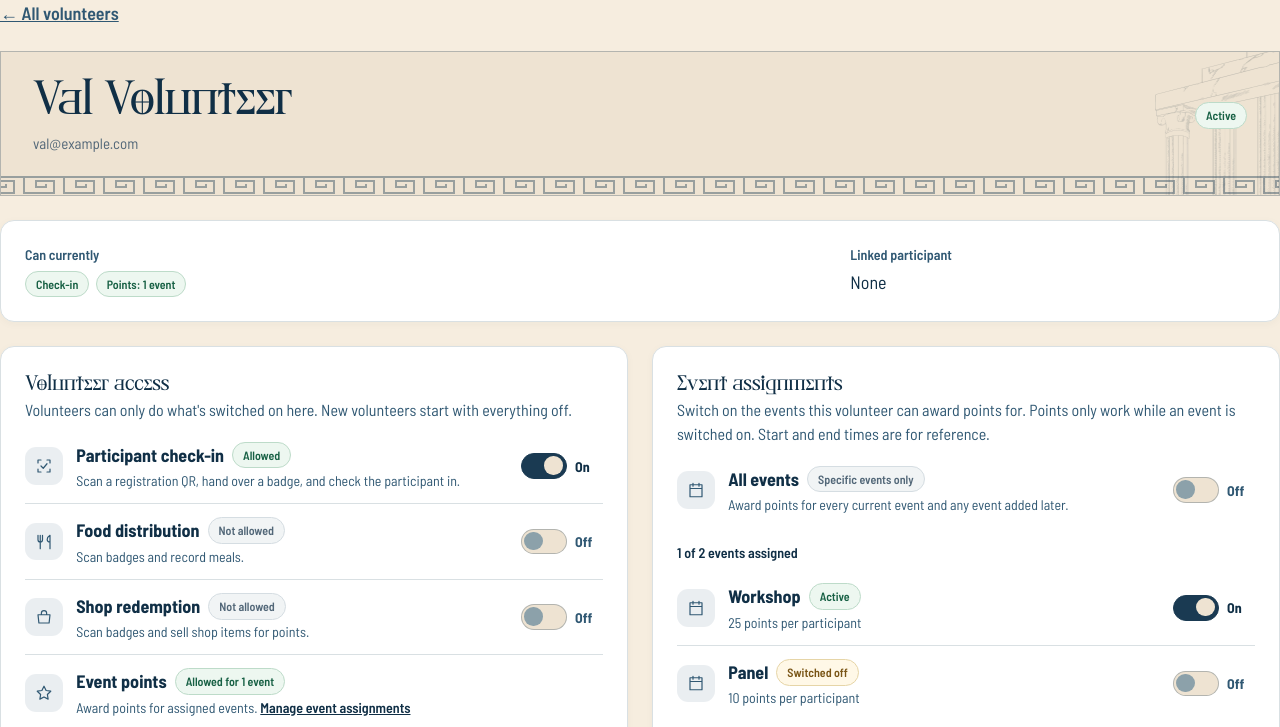
VolunteerDetailPage › reports assignment failures and links to Events when none exist
Click the switch labelled "Off" in the row of "Panel" at (1214, 683), box [1173, 661, 1255, 705]
(page scrolled)
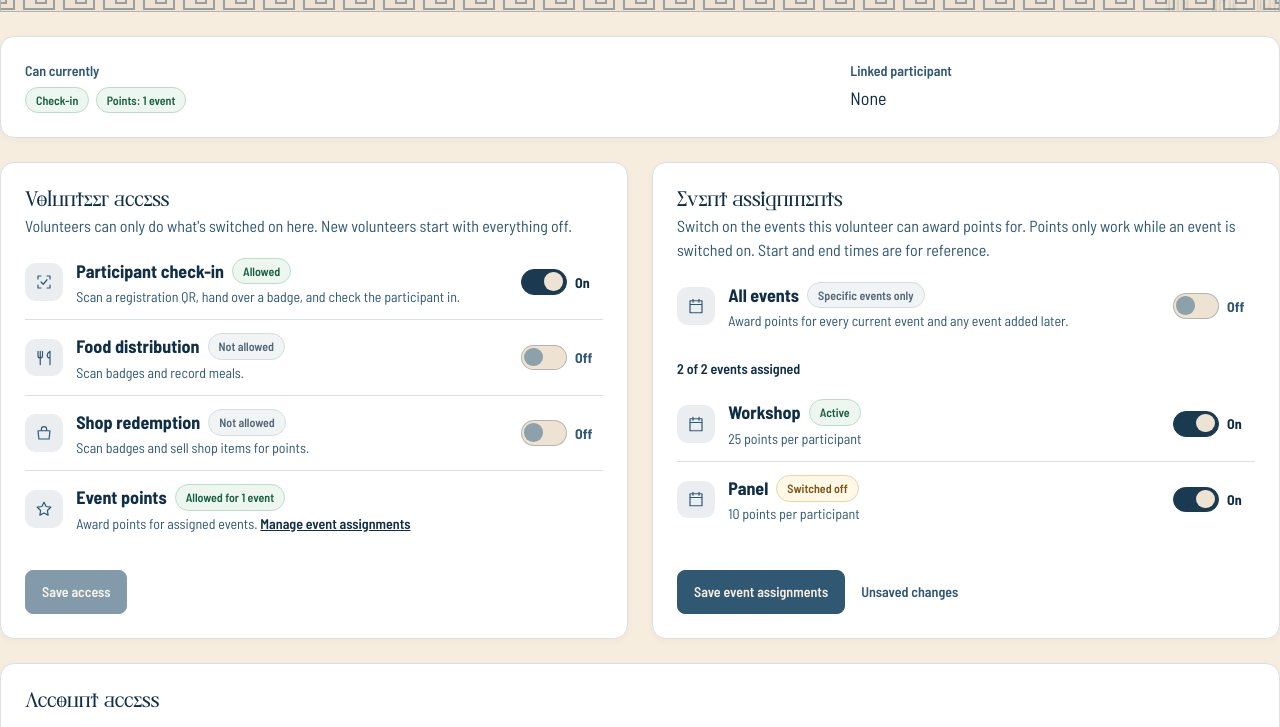
Submit the form that starts with "Event assignments", box [652, 162, 1279, 639]
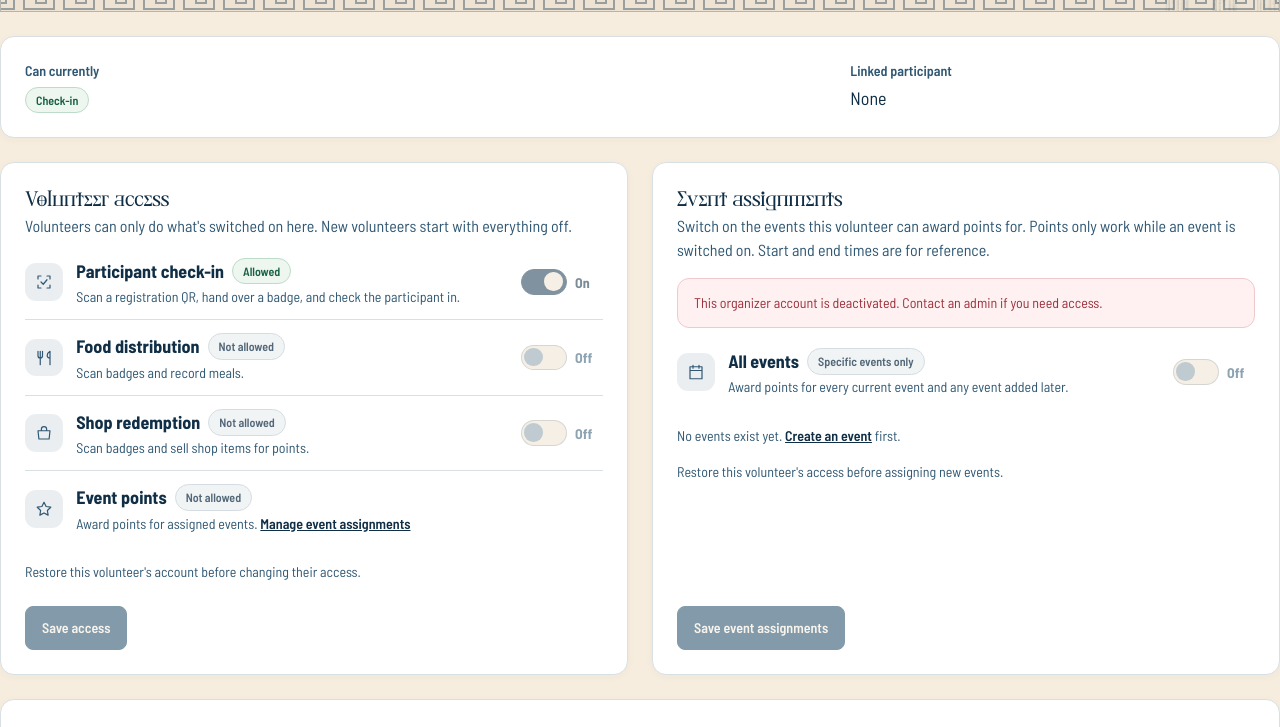
Expected: the message "This organizer account is deactivated. Contact an admin if you need access." is shown, [677, 278, 1255, 328]
Expected: the link to "/admin/events" reads "Create an event", [785, 426, 872, 444]
Expected: the text "Restore this volunteer's access before assigning new events." is shown, [677, 462, 1003, 480]
